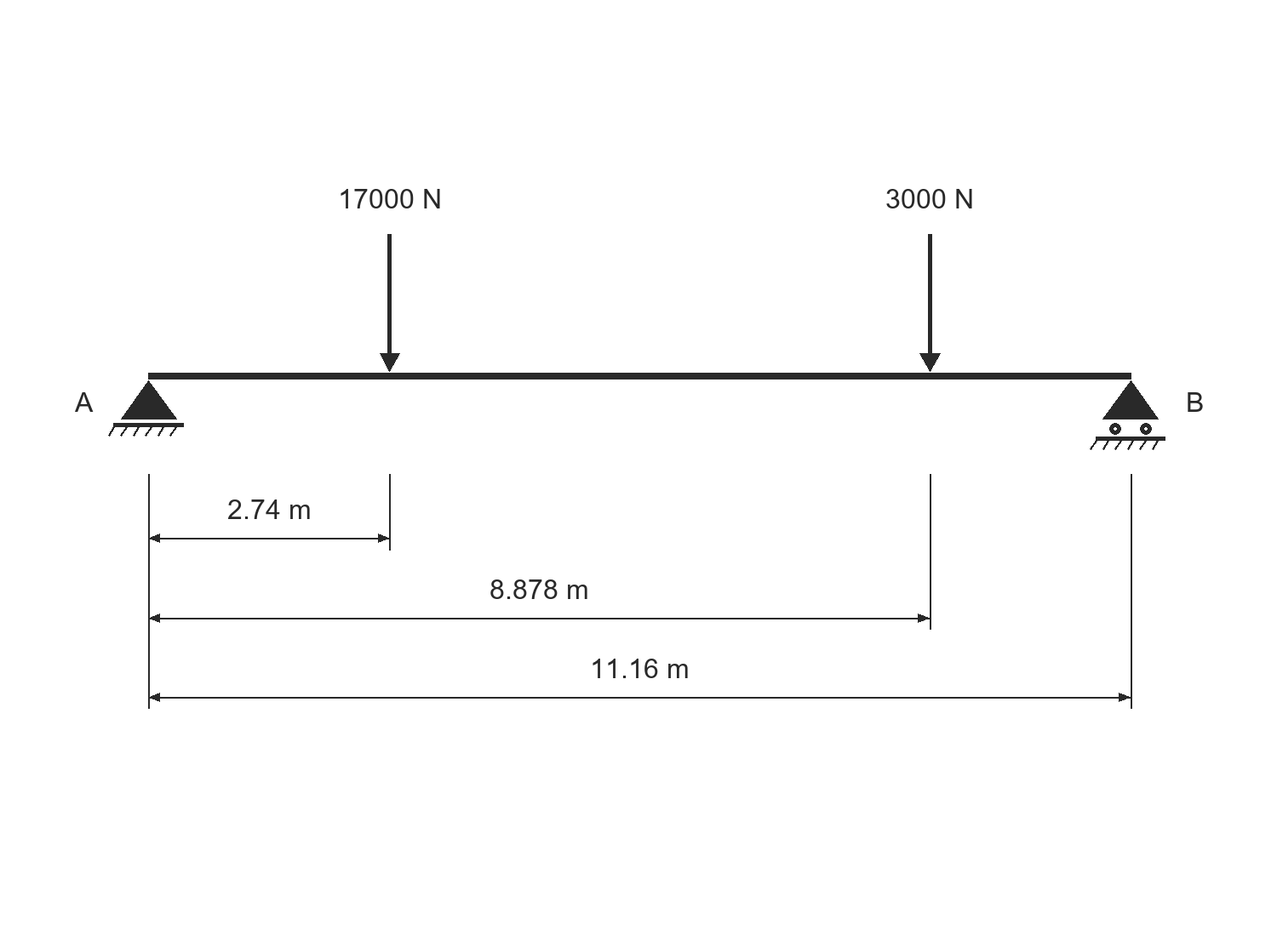pin_support: (108, 380, 184, 437)
point_load: (919, 234, 941, 372), (380, 234, 400, 372)
roller_support: (1090, 380, 1165, 450)
